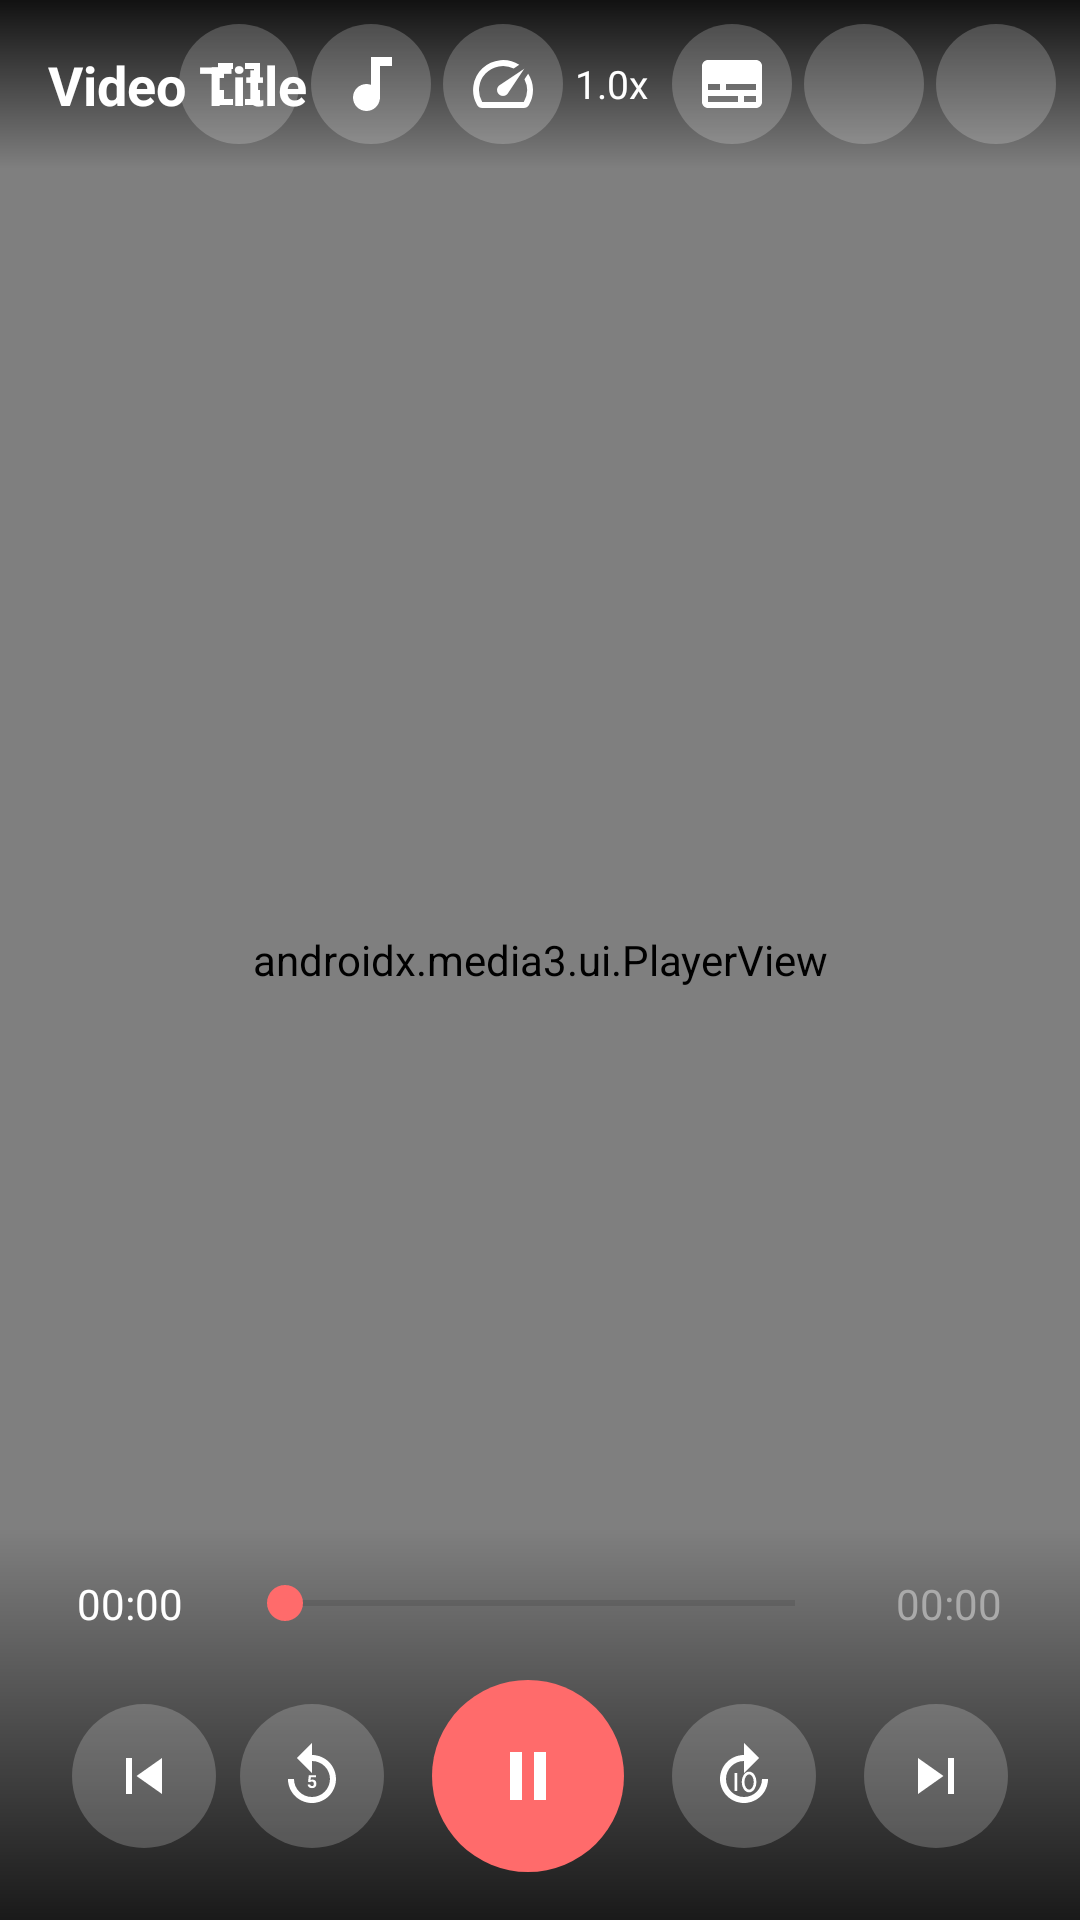

Named icons in this screenshot (1080x1920) and their centers, [x,y]:
Audio Track: [371,84]
Forward 10s: [744,1776]
Next video: [936,1776]
Play or Pause: [528,1776]
Playback Speed: [503,84]
Previous video: [144,1776]
subtitles: [732,84]
